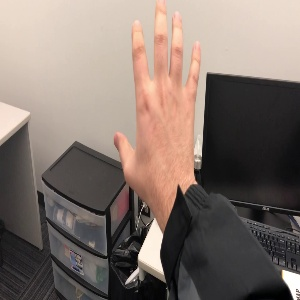hand: (113, 2, 200, 188)
